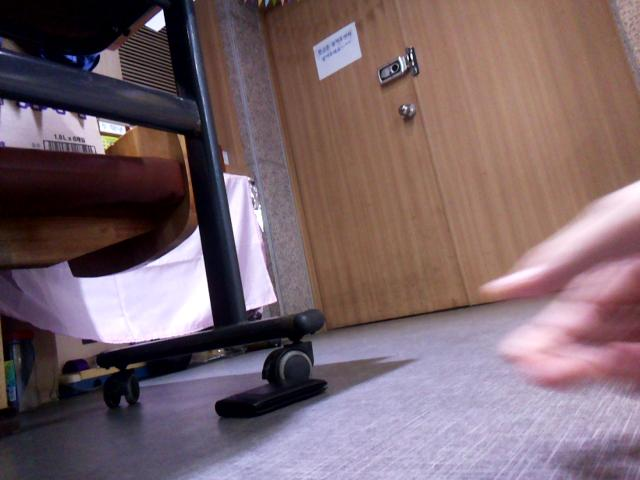wallet: (210, 363, 331, 423)
